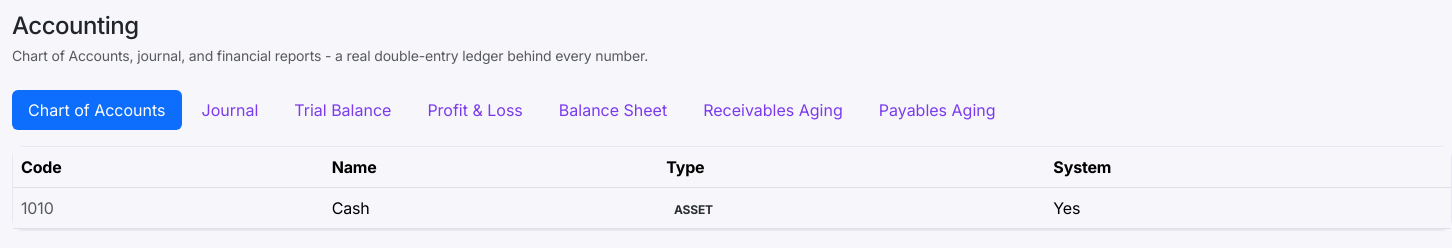
Test: switching tabs after the Chart of Accounts has loaded (the real user sequence) › Journal: no render exception, and it shows its own content once its response arrives
Expected: the text "Cash" is shown, left=324, top=187, right=658, bottom=228
Click the button "Journal": (230, 110) left=186, top=90, right=274, bottom=130
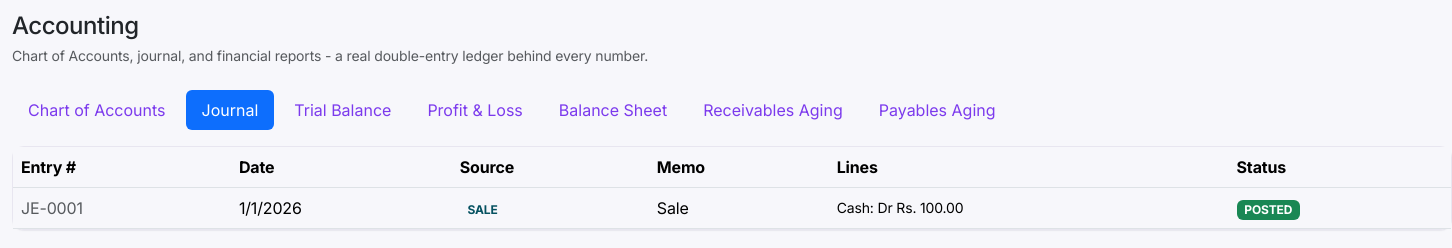
Result: the text "JE-0001" is shown at left=13, top=187, right=231, bottom=228
